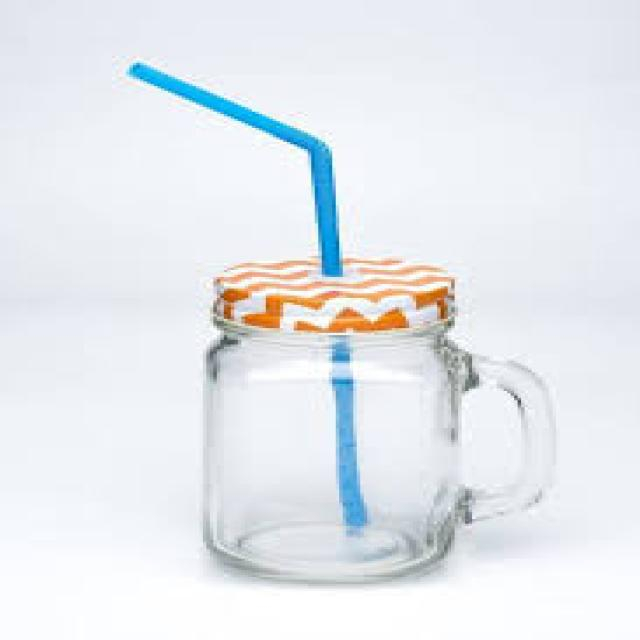glass: (203, 314, 552, 582)
metal: (206, 261, 455, 328)
